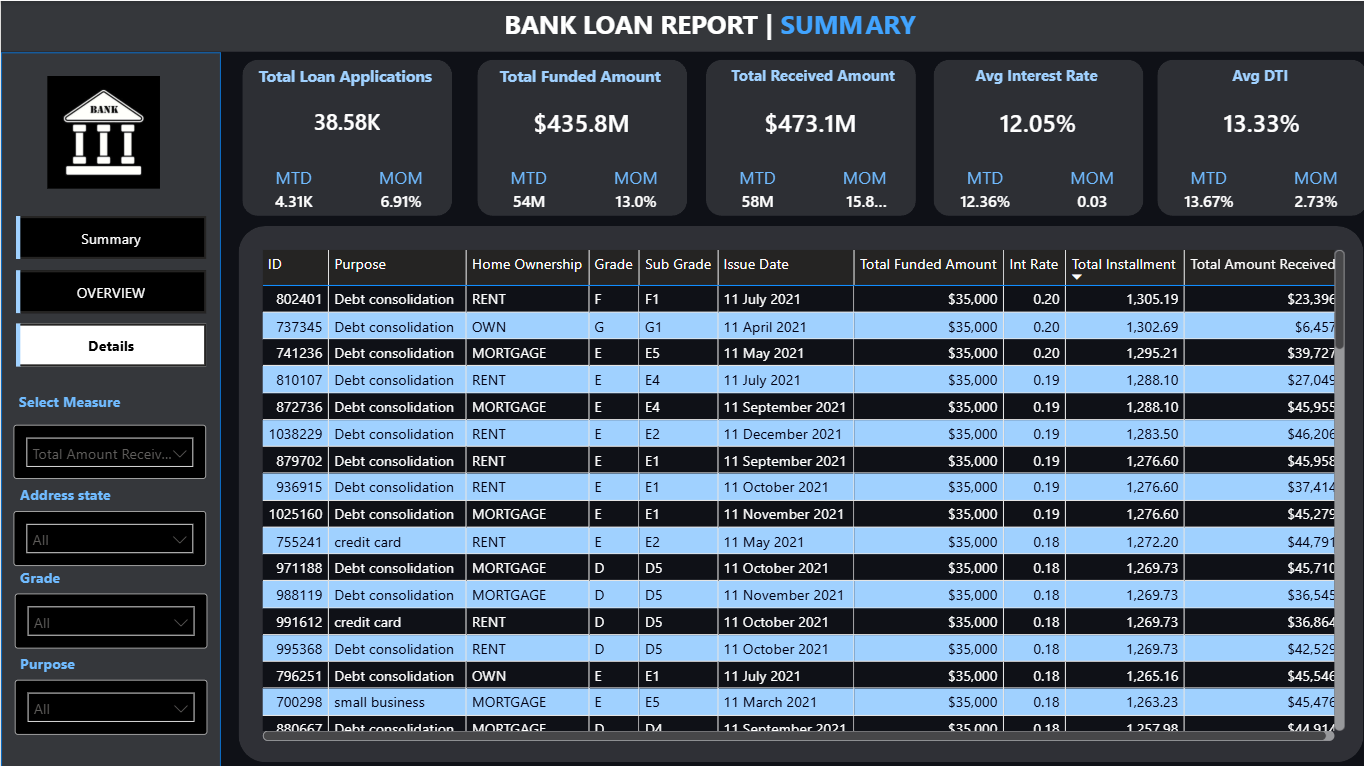

The page's visual inventory and layout, read from the dashboard file:
{"tool":"powerbi","page":{"name":"Details","canvas":[1280,720],"ordinal":2},"visuals":[{"type":"shape","box":[0,47.7,204.7,672.1],"z":0},{"type":"shape","box":[224.4,54.7,195.3,145.3],"z":0,"group":"g1"},{"type":"shape","box":[443,54.7,195.3,145.3],"z":0,"group":"g2"},{"type":"shape","box":[655.8,54.7,195.3,145.3],"z":0,"group":"g5"},{"type":"shape","box":[867.4,54.7,195.3,145.3],"z":0,"group":"g3"},{"type":"shape","box":[1075.6,54.7,195.3,145.3],"z":0,"group":"g4"},{"type":"shape","box":[0,0,1280,47.5],"z":1000},{"type":"textbox","box":[375,0,570,48.8],"z":2000},{"type":"group","id":"g1","title":"Group 1","box":[224.4,54.7,195.3,155.8],"z":3000},{"type":"group","id":"g2","title":"Group 1","box":[443,54.7,195.3,155.8],"z":4000},{"type":"cardVisual","fields":{"Data":["bank_loan_db financial_loan.Total_loan_application"]},"box":[240.7,85.1,162.8,52.8],"z":4000,"group":"g1"},{"type":"cardVisual","fields":{"Data":["bank_loan_db financial_loan.Total Fundede Amountn"]},"box":[459.3,85.1,162.8,52.8],"z":4000,"group":"g2"},{"type":"cardVisual","fields":{"Data":["bank_loan_db financial_loan.Total Amount Received"]},"box":[672.1,85.1,162.8,52.8],"z":4000,"group":"g5"},{"type":"cardVisual","fields":{"Data":["bank_loan_db financial_loan.Avg Interest Rate"]},"box":[883.7,85.1,162.8,52.8],"z":4000,"group":"g3"},{"type":"cardVisual","fields":{"Data":["bank_loan_db financial_loan.Total DTI"]},"box":[1091.9,85.1,162.8,52.8],"z":4000,"group":"g4"},{"type":"textbox","box":[224.4,54.7,191.6,30.4],"z":5000,"group":"g1"},{"type":"textbox","box":[443,54.7,191.6,30.4],"z":5000,"group":"g2"},{"type":"textbox","box":[655.8,54.7,191.6,30.4],"z":5000,"group":"g5"},{"type":"group","id":"g3","title":"Group 1","box":[867.4,54.7,195.3,155.8],"z":5000},{"type":"textbox","box":[867.4,54.7,191.6,30.4],"z":5000,"group":"g3"},{"type":"textbox","box":[1075.6,54.7,191.6,30.4],"z":5000,"group":"g4"},{"type":"group","id":"g4","title":"Group 1","box":[1075.6,54.7,195.3,155.8],"z":6000},{"type":"cardVisual","fields":{"Data":["bank_loan_db financial_loan.MTD"]},"box":[224.4,137.9,96.4,72.6],"z":6000,"group":"g1"},{"type":"cardVisual","fields":{"Data":["bank_loan_db financial_loan.Funded MTD"]},"box":[443,137.9,96.4,72.6],"z":6000,"group":"g2"},{"type":"cardVisual","fields":{"Data":["bank_loan_db financial_loan.Received MTD"]},"box":[655.8,137.9,96.4,72.6],"z":6000,"group":"g5"},{"type":"cardVisual","fields":{"Data":["bank_loan_db financial_loan.Int MTD"]},"box":[867.4,137.9,96.4,72.6],"z":6000,"group":"g3"},{"type":"cardVisual","fields":{"Data":["bank_loan_db financial_loan.DTI MTD"]},"box":[1075.6,137.9,96.4,72.6],"z":6000,"group":"g4"},{"type":"group","id":"g5","title":"Group 1","box":[655.8,54.7,195.3,155.8],"z":7000},{"type":"cardVisual","fields":{"Data":["bank_loan_db financial_loan.MOM"]},"box":[325.8,137.9,93.9,72.6],"z":7000,"group":"g1"},{"type":"cardVisual","fields":{"Data":["bank_loan_db financial_loan.Funded MoM"]},"box":[544.4,137.9,93.9,72.6],"z":7000,"group":"g2"},{"type":"cardVisual","fields":{"Data":["bank_loan_db financial_loan.Received MOM"]},"box":[757.2,137.9,93.9,72.6],"z":7000,"group":"g5"},{"type":"cardVisual","fields":{"Data":["bank_loan_db financial_loan.INT MOM"]},"box":[968.8,137.9,93.9,72.6],"z":7000,"group":"g3"},{"type":"cardVisual","fields":{"Data":["bank_loan_db financial_loan.DTI MOM"]},"box":[1177,137.9,93.9,72.6],"z":7000,"group":"g4"},{"type":"slicer","fields":{"Values":["bank_loan_db financial_loan.address_state"]},"box":[11.6,474.4,179.1,51.2],"z":8000},{"type":"slicer","fields":{"Values":["bank_loan_db financial_loan.purpose"]},"box":[12.6,631.2,179.1,51.2],"z":9000},{"type":"slicer","fields":{"Values":["bank_loan_db financial_loan.grade"]},"box":[12.6,550.9,179.1,51.2],"z":10000},{"type":"textbox","box":[12.6,521.9,154.7,29.1],"z":11000},{"type":"textbox","box":[12.6,602.1,148.8,29.1],"z":12000},{"type":"textbox","box":[12.6,445.1,118.6,29.1],"z":13000},{"type":"shape","box":[220.9,209.3,1046.5,498.8],"z":14000},{"type":"slicer","fields":{"Values":["Select Measure.Select Measure"]},"box":[11.6,394.7,179.1,50],"z":15000},{"type":"textbox","box":[11.6,358.6,148.8,36],"z":16000},{"type":"image","box":[40.7,69.8,109.3,104.7],"z":17000},{"type":"tableEx","fields":{"Values":["bank_loan_db financial_loan.id","bank_loan_db financial_loan.purpose","bank_loan_db financial_loan.home_ownership","bank_loan_db financial_loan.grade","bank_loan_db financial_loan.sub_grade","bank_loan_db financial_loan.issue_date","bank_loan_db financial_loan.Total Funded Amount","bank_loan_db financial_loan.int_rate","Sum(bank_loan_db financial_loan.installment)","bank_loan_db financial_loan.Total Amount Received"]},"box":[237.2,226.7,1017.4,466.3],"z":18000},{"type":"pageNavigator","box":[14,200,177.9,141.9],"z":19000}]}

Visuals, with their boxes on the page's 1280x720 design canvas (x1, y1, x2, y2). These are canvas units, not pixel positions in the 1364x766 screenshot, which may show the page scaled, cropped or inside an application window:
shape: 0, 48, 205, 720
shape: 224, 55, 420, 200
shape: 443, 55, 638, 200
shape: 656, 55, 851, 200
shape: 867, 55, 1063, 200
shape: 1076, 55, 1271, 200
shape: 0, 0, 1280, 48
textbox: 375, 0, 945, 49
"Group 1" group: 224, 55, 420, 210
"Group 1" group: 443, 55, 638, 210
cardVisual - bank_loan_db financial_loan.Total_loan_application: 241, 85, 404, 138
cardVisual - bank_loan_db financial_loan.Total Fundede Amountn: 459, 85, 622, 138
cardVisual - bank_loan_db financial_loan.Total Amount Received: 672, 85, 835, 138
cardVisual - bank_loan_db financial_loan.Avg Interest Rate: 884, 85, 1046, 138
cardVisual - bank_loan_db financial_loan.Total DTI: 1092, 85, 1255, 138
textbox: 224, 55, 416, 85
textbox: 443, 55, 635, 85
textbox: 656, 55, 847, 85
"Group 1" group: 867, 55, 1063, 210
textbox: 867, 55, 1059, 85
textbox: 1076, 55, 1267, 85
"Group 1" group: 1076, 55, 1271, 210
cardVisual - bank_loan_db financial_loan.MTD: 224, 138, 321, 210
cardVisual - bank_loan_db financial_loan.Funded MTD: 443, 138, 539, 210
cardVisual - bank_loan_db financial_loan.Received MTD: 656, 138, 752, 210
cardVisual - bank_loan_db financial_loan.Int MTD: 867, 138, 964, 210
cardVisual - bank_loan_db financial_loan.DTI MTD: 1076, 138, 1172, 210
"Group 1" group: 656, 55, 851, 210
cardVisual - bank_loan_db financial_loan.MOM: 326, 138, 420, 210
cardVisual - bank_loan_db financial_loan.Funded MoM: 544, 138, 638, 210
cardVisual - bank_loan_db financial_loan.Received MOM: 757, 138, 851, 210
cardVisual - bank_loan_db financial_loan.INT MOM: 969, 138, 1063, 210
cardVisual - bank_loan_db financial_loan.DTI MOM: 1177, 138, 1271, 210
slicer - bank_loan_db financial_loan.address_state: 12, 474, 191, 526
slicer - bank_loan_db financial_loan.purpose: 13, 631, 192, 682
slicer - bank_loan_db financial_loan.grade: 13, 551, 192, 602
textbox: 13, 522, 167, 551
textbox: 13, 602, 161, 631
textbox: 13, 445, 131, 474
shape: 221, 209, 1267, 708
slicer - Select Measure.Select Measure: 12, 395, 191, 445
textbox: 12, 359, 160, 395
image: 41, 70, 150, 174
tableEx - bank_loan_db financial_loan.id x bank_loan_db financial_loan.purpose: 237, 227, 1255, 693
pageNavigator: 14, 200, 192, 342
